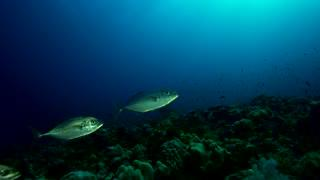Carangidae -Jacks-: (99, 80, 178, 120), (26, 111, 106, 144)
